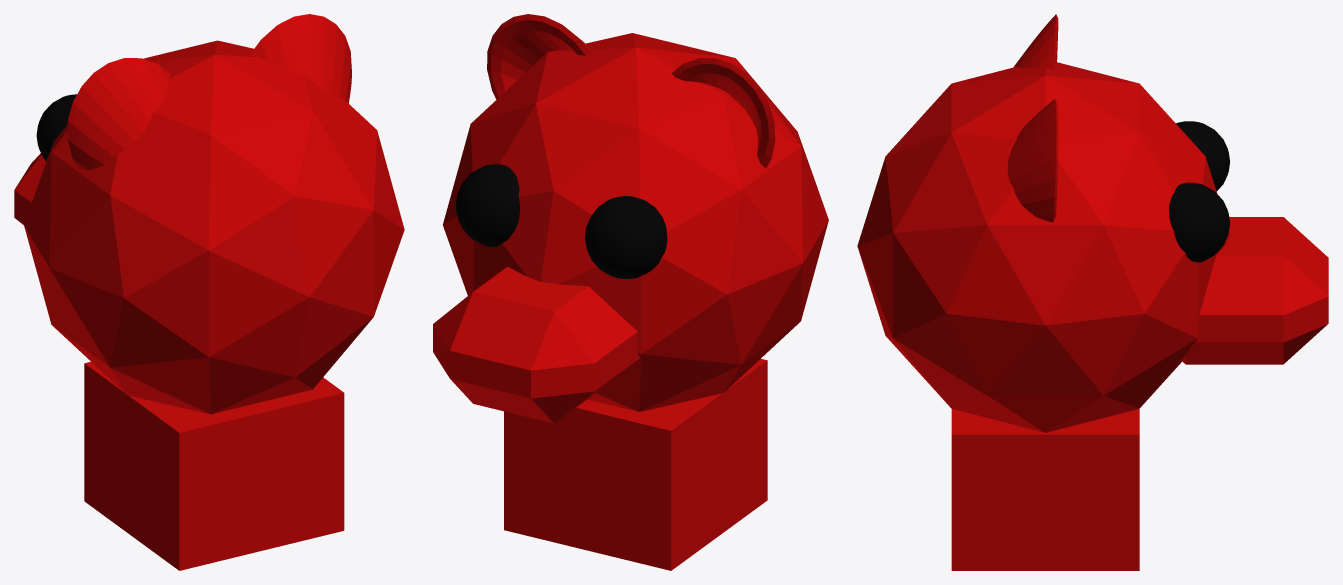
The model's file is Bear.fbx.
3 views of the same model, side by side, from view 1: azimuth 30°, elevation 25°; view 2: azimuth 150°, elevation 25°; view 3: azimuth 270°, elevation 25° (orthographic). The views are drawn at different scales.
Visible parts, largest first — view 1: Sphere, Cube, Loft, Sphere_1, Cube_1; view 2: Sphere, Cube, Cube_1, Sphere_1, Loft; view 3: Sphere, Cube, Cube_1, Loft, Sphere_1.
Part boxes in pixels (x1,y1,x2,y2): Sphere: (24, 40, 404, 414); Cube: (84, 361, 344, 570); Loft: (67, 14, 351, 169); Sphere_1: (36, 94, 76, 161); Cube_1: (14, 153, 46, 224); Sphere: (443, 33, 828, 411); Cube: (504, 359, 767, 570); Cube_1: (433, 266, 639, 423); Sphere_1: (455, 164, 667, 278); Loft: (487, 14, 775, 168); Sphere: (857, 62, 1230, 432); Cube: (951, 408, 1139, 570); Cube_1: (1181, 217, 1328, 364); Loft: (1007, 14, 1058, 222); Sphere_1: (1169, 121, 1229, 262).
Size of the model in its own units: 100 by 138 by 125.
